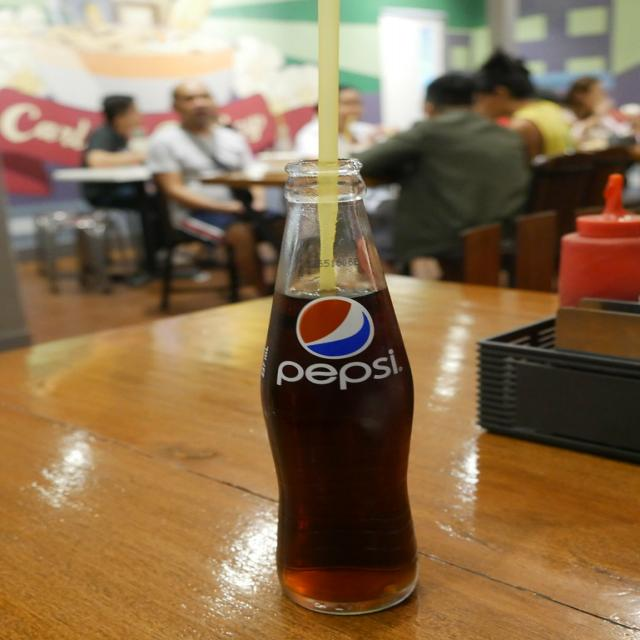Soda: (259, 159, 419, 619)
